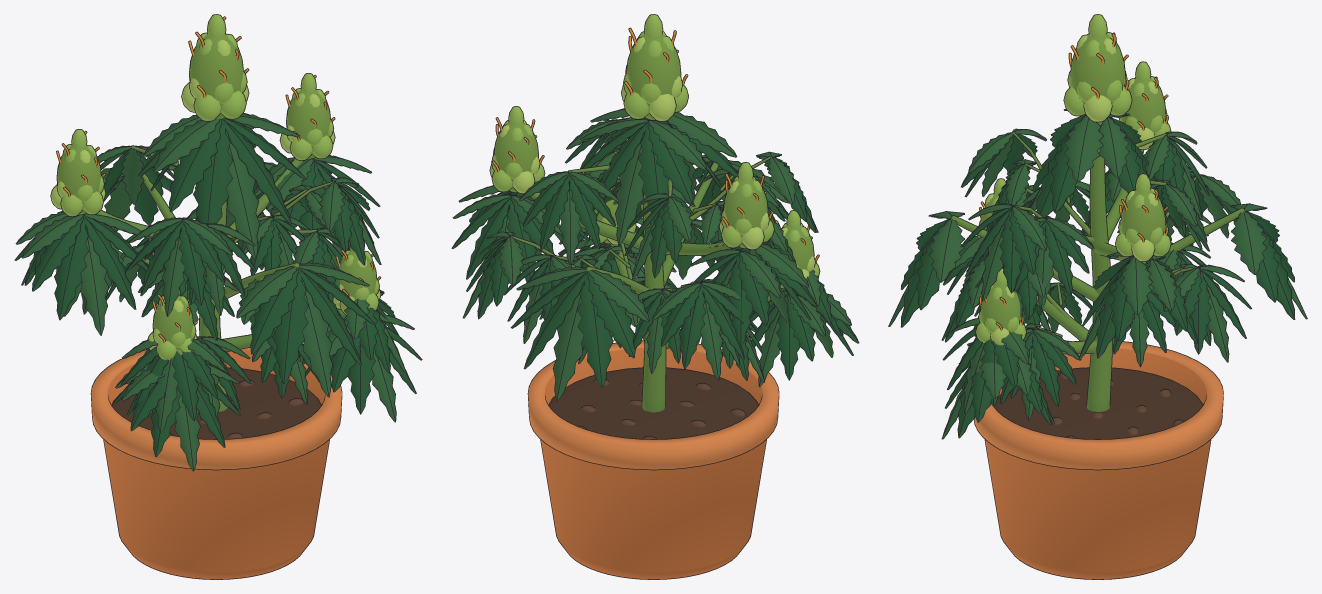
Rendered from cannabis_compact_toon.glb.
The picture shows the model from 3 angles, left to right: view 1: azimuth 30°, elevation 25°; view 2: azimuth 150°, elevation 25°; view 3: azimuth 270°, elevation 25°; orthographic projection.
Parts seen in each view (by area): view 1: cannabis_compact_Geometry; view 2: cannabis_compact_Geometry; view 3: cannabis_compact_Geometry.
Boxes of the visible parts, x1,y1,x2,y2 form: cannabis_compact_Geometry: [14, 14, 422, 579]; cannabis_compact_Geometry: [451, 14, 859, 579]; cannabis_compact_Geometry: [888, 14, 1307, 579].
Size of the model in its own units: 0.6266 by 0.9016 by 0.6496.
